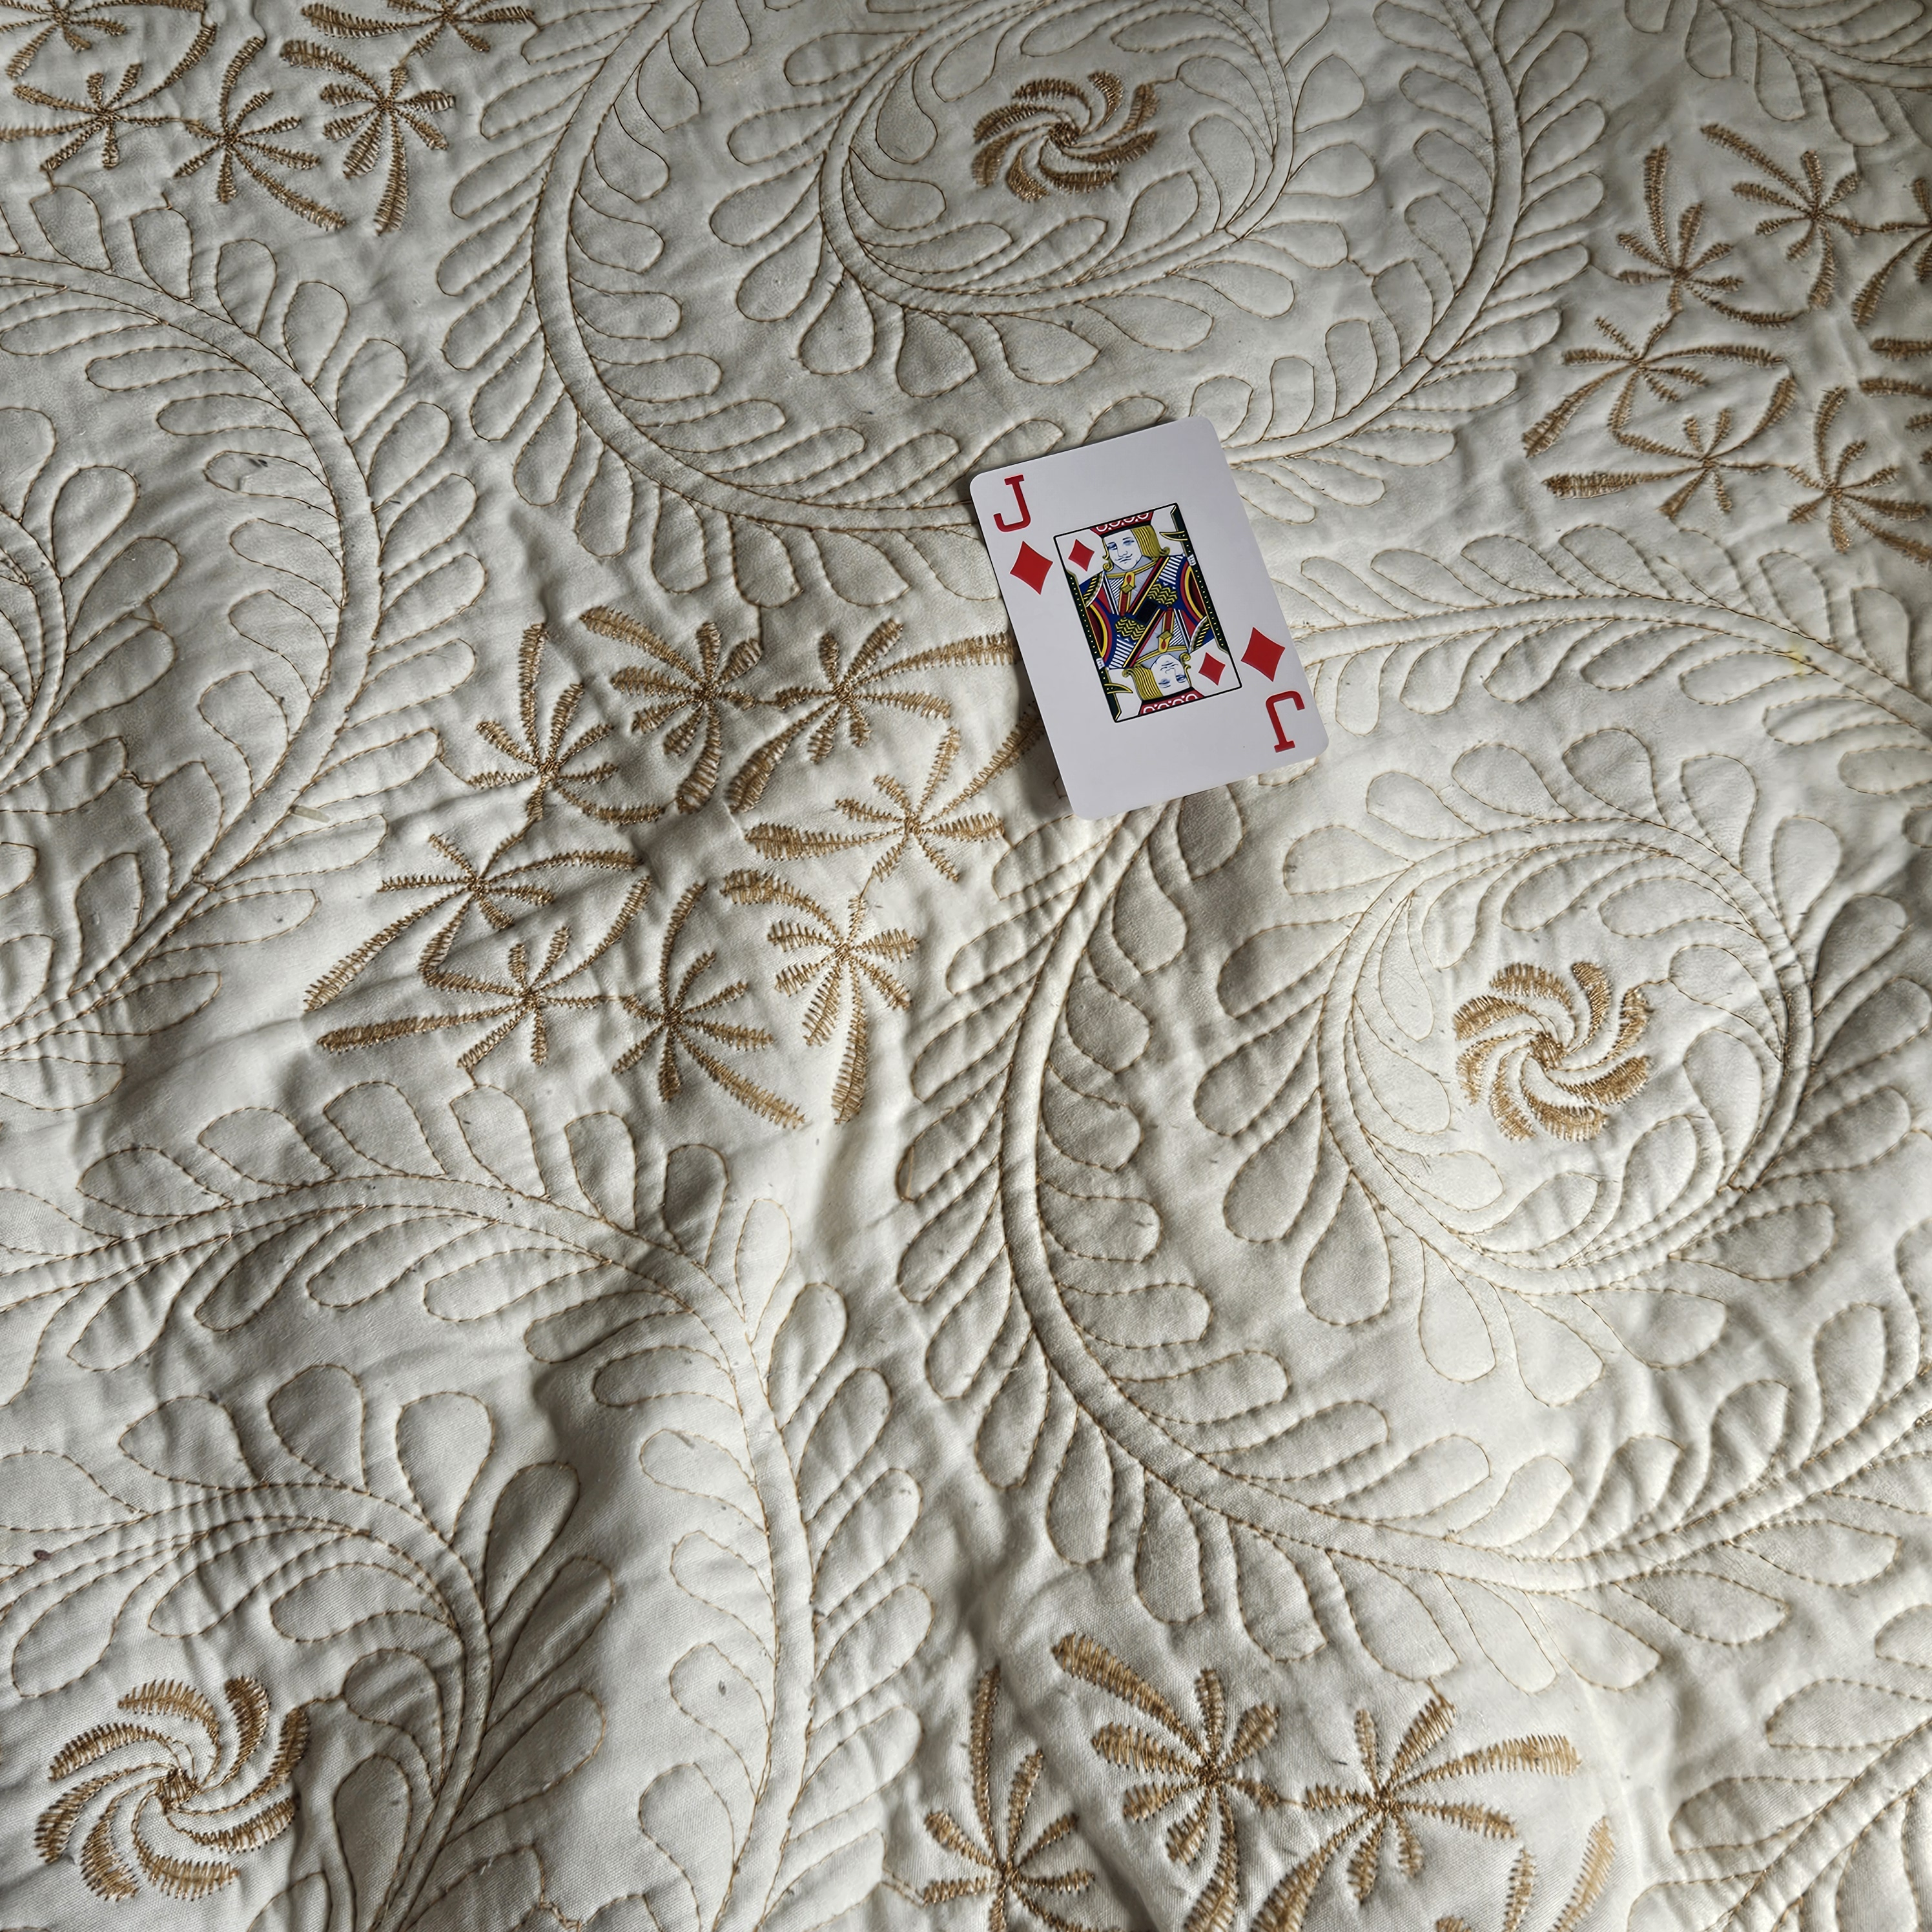JO: (1230, 616, 1327, 764), (982, 465, 1060, 603)
